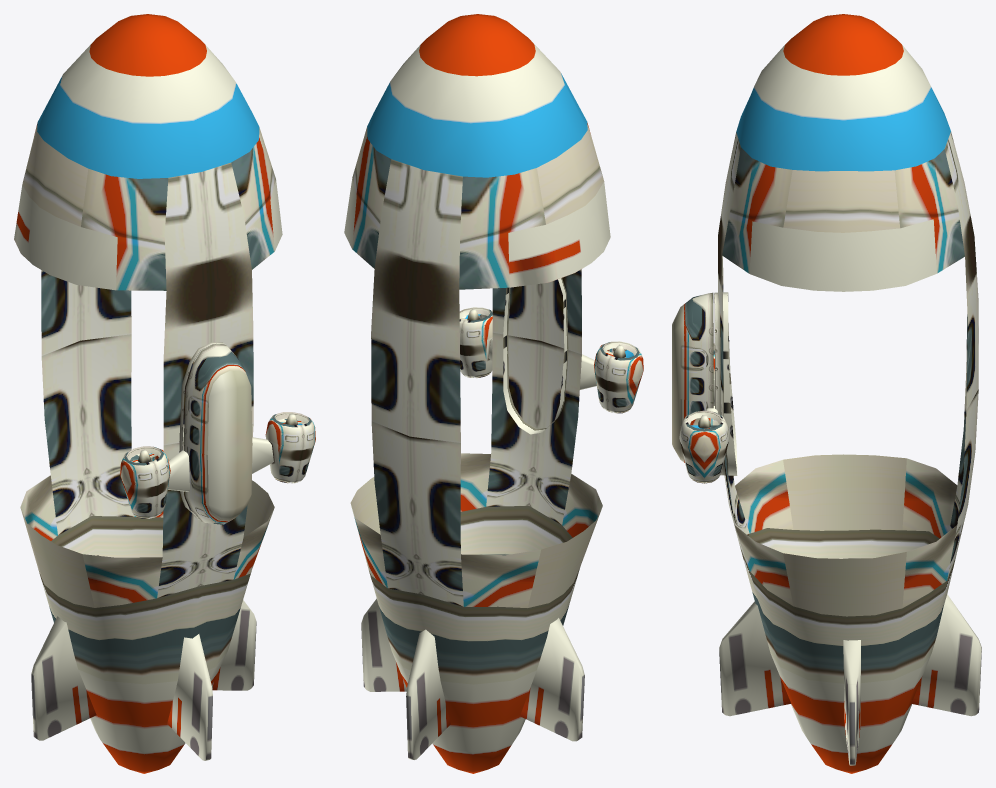
File: polygon0.189.obj
3 views of the same model, side by side, from view 1: azimuth 30°, elevation 25°; view 2: azimuth 150°, elevation 25°; view 3: azimuth 270°, elevation 25° (orthographic).
Visible parts, largest first — view 1: polygon0.005; view 2: polygon0.005; view 3: polygon0.005.
Boxes of the visible parts, x1,y1,x2,y2 form: polygon0.005: (14, 14, 315, 773); polygon0.005: (344, 14, 643, 773); polygon0.005: (672, 14, 981, 773).
Size of the model in its own units: 279 by 880 by 326.
1 material, 1 textured.
